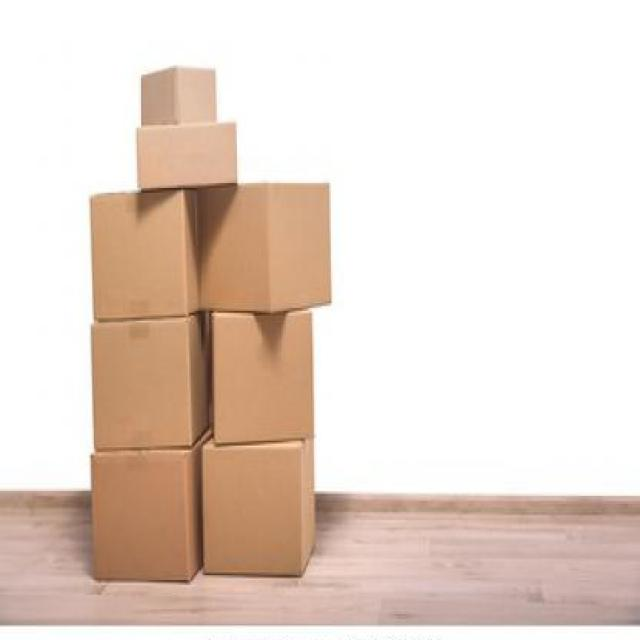box: (194, 431, 331, 588), (194, 175, 344, 318), (82, 439, 206, 593), (84, 180, 204, 322), (82, 312, 209, 446), (204, 304, 319, 448), (126, 114, 246, 192), (138, 52, 219, 138)
